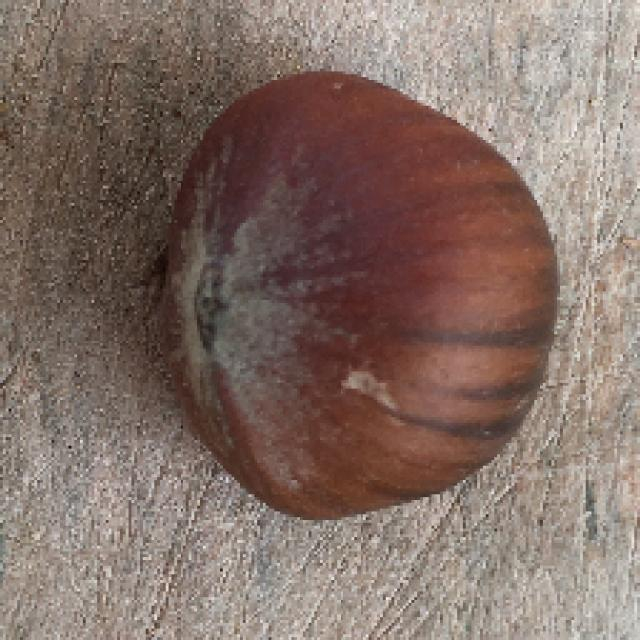qualityHazelnut: (148, 59, 562, 526)
